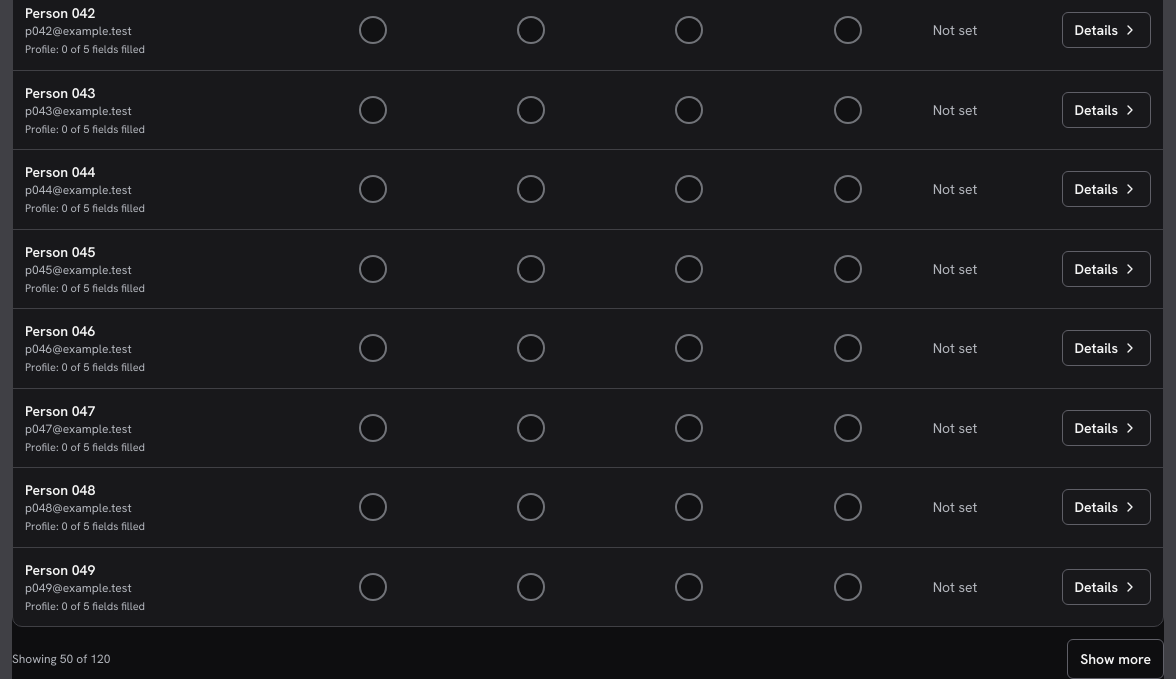
Test: the contracting review: what you see › pages a long list in full: 120 people, 50 at a time, nothing dropped
(page scrolled)
What coordinates should you click on to do the following:
click the button "Show more"
I would click on:
 (1116, 659)
Its box is top-left (1067, 639), bottom-right (1164, 678).
(page scrolled)
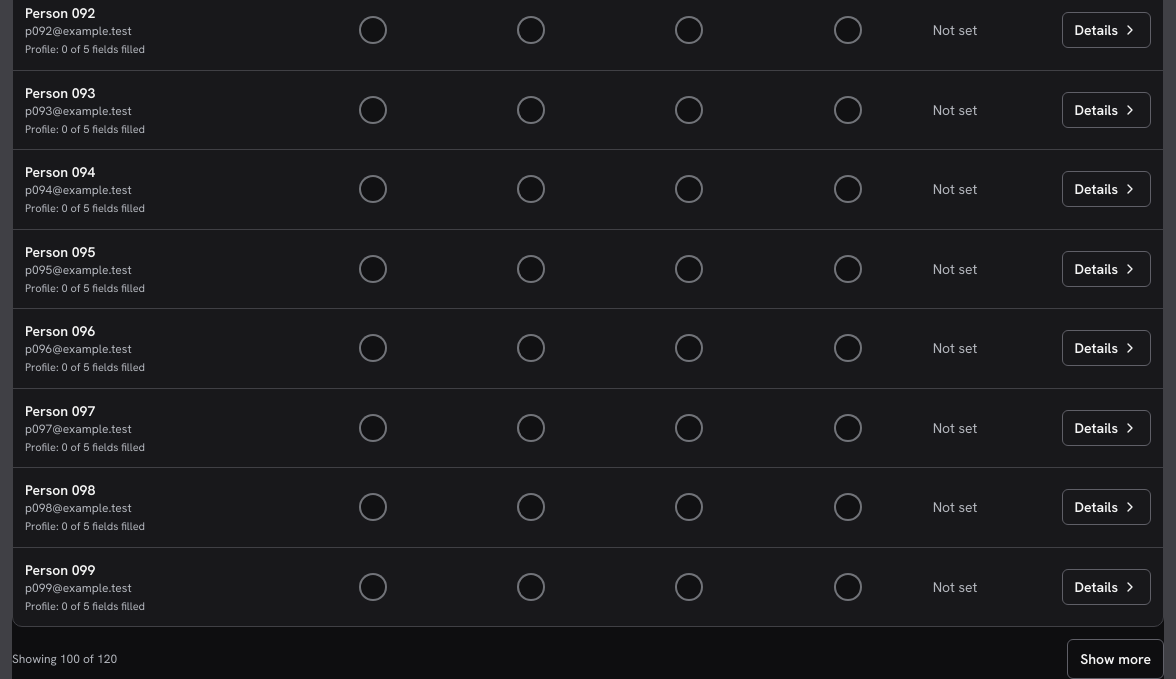
What coordinates should you click on to do the following:
click the button "Show more"
I would click on:
 (1116, 659)
Its box is top-left (1067, 639), bottom-right (1164, 678).
(page scrolled)
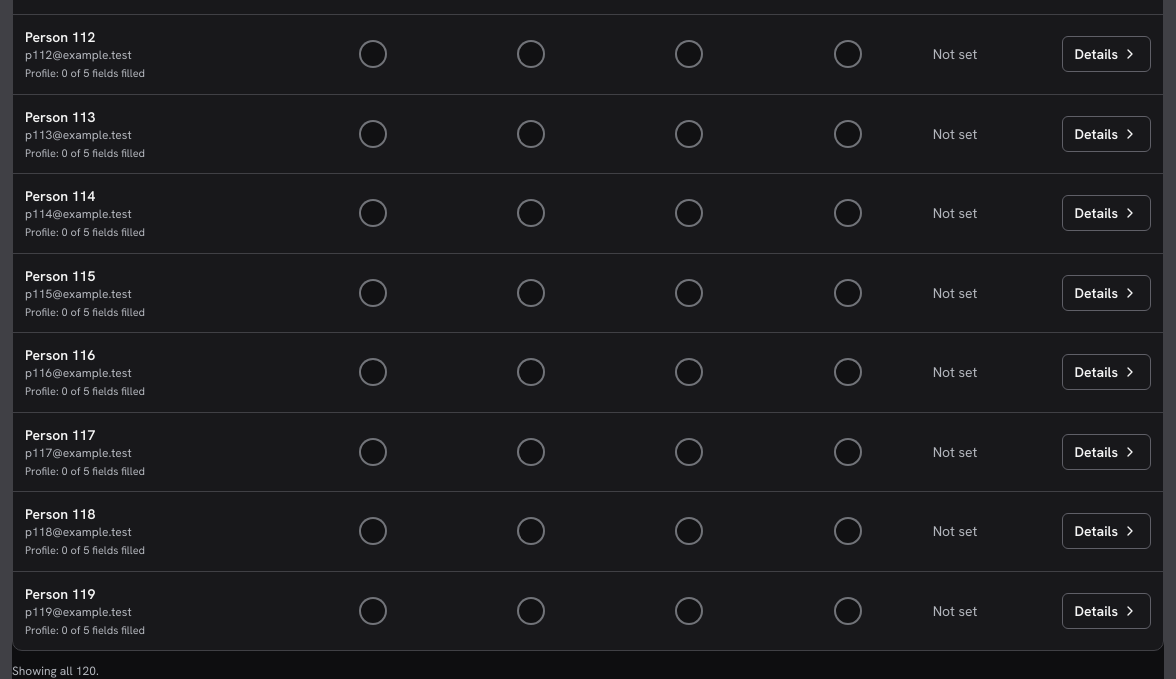
Result: the text "Showing all 120." is shown at top-left (12, 663), bottom-right (99, 678)
